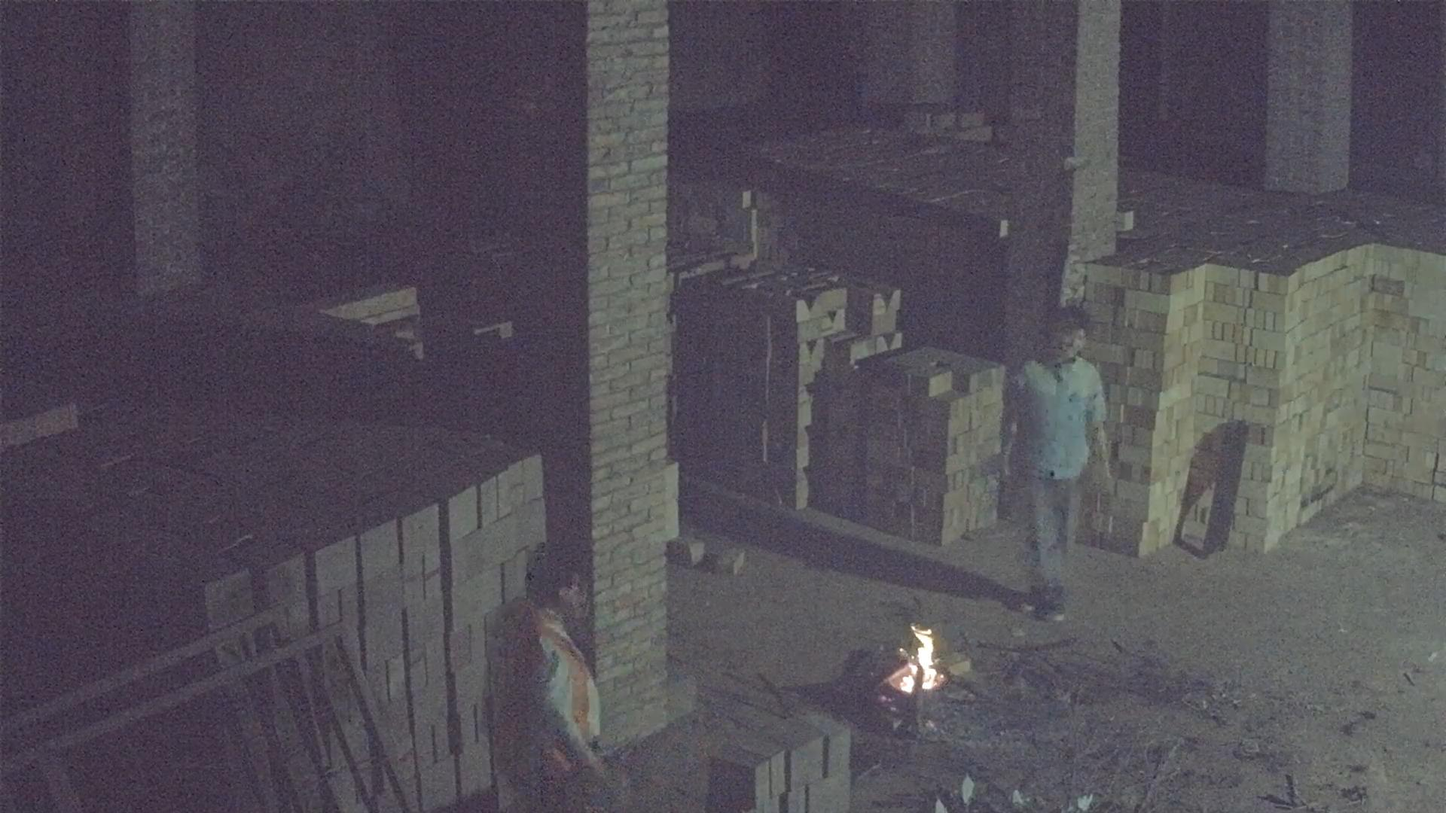fire: (895, 626, 940, 694)
